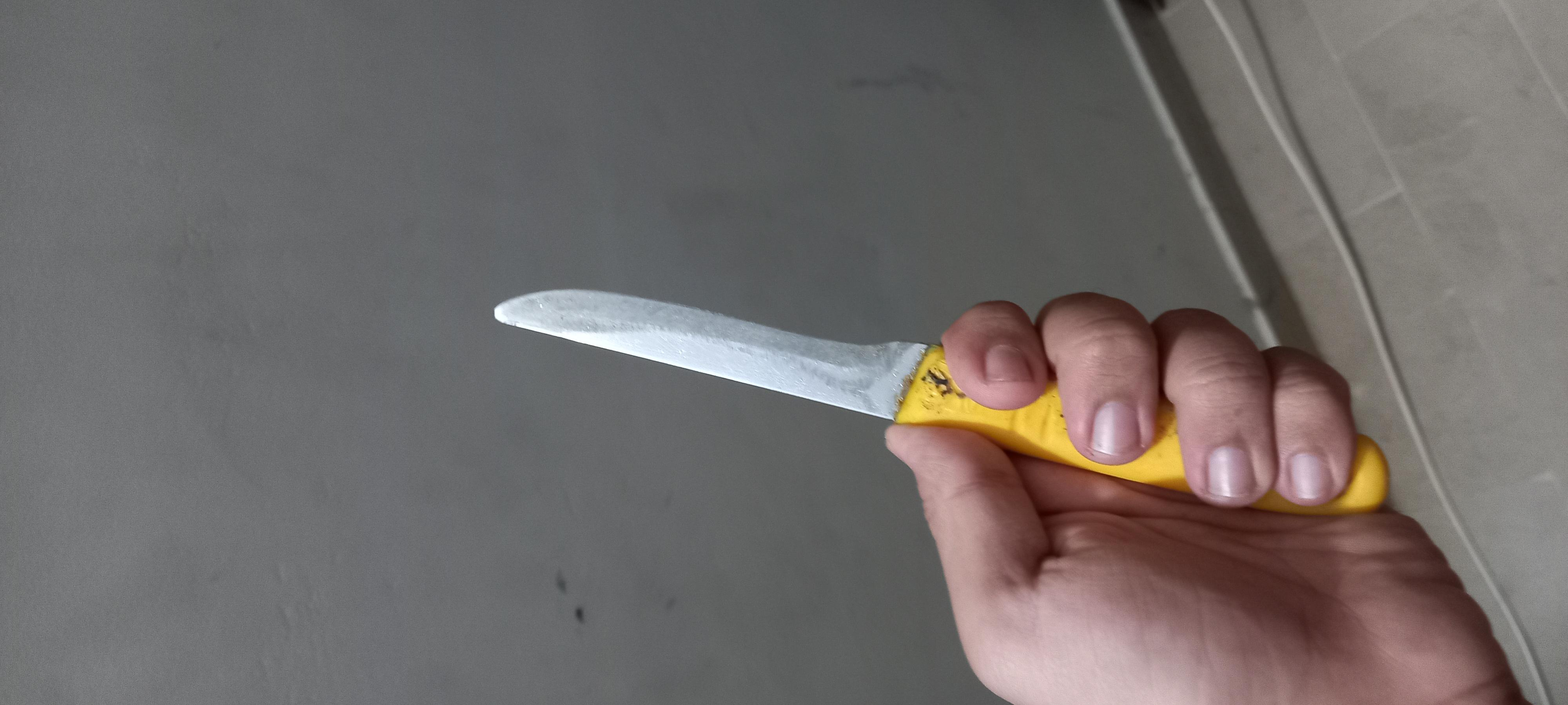knives: (408, 217, 962, 630)
